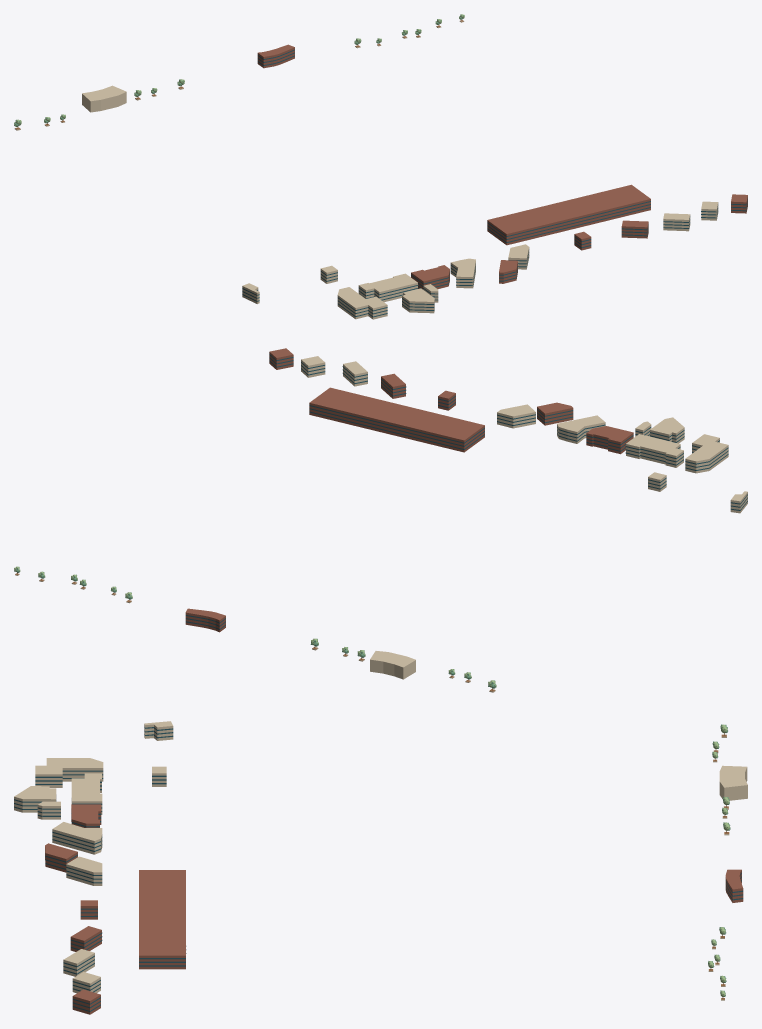
The picture shows the model from 3 angles, top to bottom: view 1: azimuth 30°, elevation 25°; view 2: azimuth 150°, elevation 25°; view 3: azimuth 270°, elevation 25°; orthographic projection. The views are drawn at different scales.
Visible parts, largest first — view 1: osm-way-166110060, osm-way-959022824, osm-way-959022823, osm-way-1322937146, osm-way-959022820, osm-way-959022822, osm-way-959022814, osm-way-1322937147; view 2: osm-way-166110060, osm-way-959022823, osm-way-959022824, osm-way-1322937146, osm-way-959022822, osm-way-959022814, osm-way-959022811, osm-way-1322937147, osm-way-959022810, osm-way-959022820; view 3: osm-way-166110060, osm-way-959022824, osm-way-959022814, osm-way-959022823, osm-way-1322937146, osm-way-959022811, osm-way-959022820, osm-way-959022822, osm-way-1428265793, osm-way-959022810, osm-way-1428265794, osm-way-1428265797 (+3 smaller).
Part boxes in pixels (bbox=[...]): osm-way-166110060: bbox=[487, 184, 650, 245]; osm-way-959022824: bbox=[337, 287, 387, 319]; osm-way-959022823: bbox=[358, 273, 418, 302]; osm-way-1322937146: bbox=[82, 85, 126, 112]; osm-way-959022820: bbox=[402, 288, 434, 313]; osm-way-959022822: bbox=[411, 265, 449, 289]; osm-way-959022814: bbox=[450, 258, 475, 288]; osm-way-1322937147: bbox=[257, 44, 294, 68]; osm-way-166110060: bbox=[309, 387, 484, 452]; osm-way-959022823: bbox=[625, 434, 683, 467]; osm-way-959022824: bbox=[685, 434, 728, 473]; osm-way-1322937146: bbox=[370, 651, 415, 679]; osm-way-959022822: bbox=[586, 426, 633, 454]; osm-way-959022814: bbox=[557, 415, 605, 443]; osm-way-959022811: bbox=[497, 404, 535, 428]; osm-way-1322937147: bbox=[185, 608, 225, 632]; osm-way-959022810: bbox=[537, 402, 573, 425]; osm-way-959022820: bbox=[650, 417, 684, 443]; osm-way-166110060: bbox=[139, 870, 186, 969]; osm-way-959022824: bbox=[35, 758, 103, 787]; osm-way-959022814: bbox=[52, 822, 102, 854]; osm-way-959022823: bbox=[71, 773, 102, 814]; osm-way-1322937146: bbox=[719, 765, 747, 800]; osm-way-959022811: bbox=[66, 856, 102, 885]; osm-way-959022820: bbox=[14, 786, 56, 812]; osm-way-959022822: bbox=[71, 804, 101, 827]; osm-way-1428265793: bbox=[63, 949, 94, 976]; osm-way-959022810: bbox=[45, 843, 77, 872]; osm-way-1428265794: bbox=[70, 926, 102, 951]; osm-way-1428265797: bbox=[72, 989, 100, 1014].
Bounding box in the file's own units: 659 × 15 × 729.
